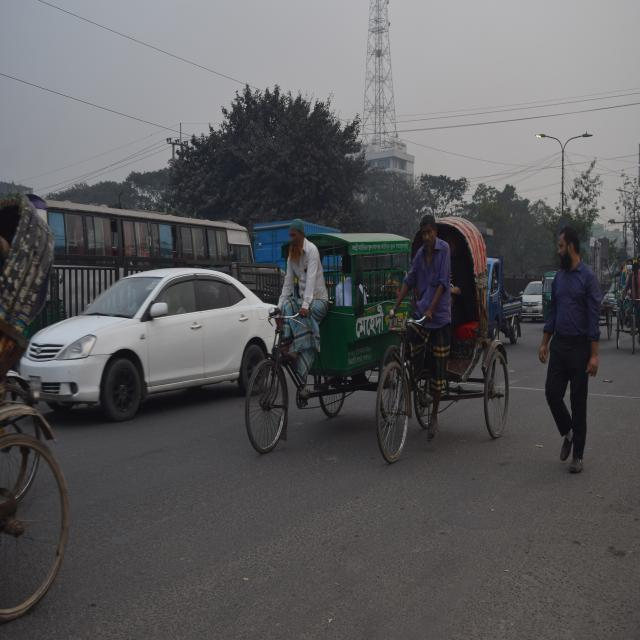bus: (22, 157, 258, 308)
car: (9, 260, 293, 434), (517, 259, 546, 326)
pickup-van: (251, 203, 361, 281), (482, 248, 528, 350)
